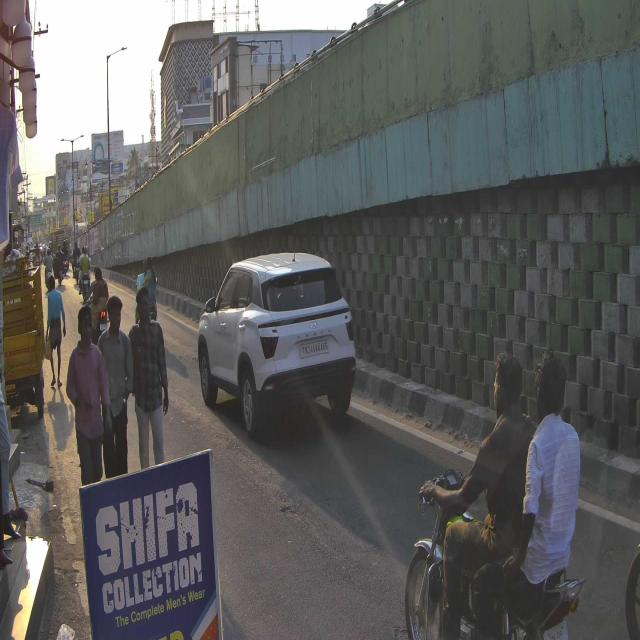double_rider: (402, 348, 580, 640)
